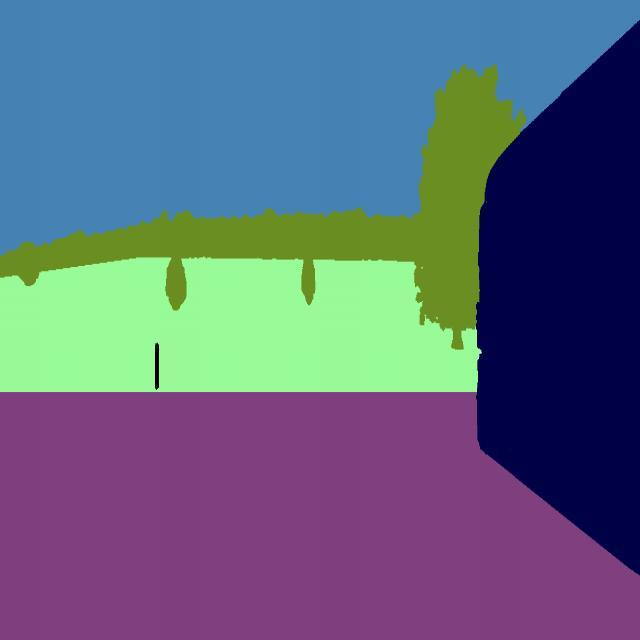unsafe: (474, 13, 640, 577)
